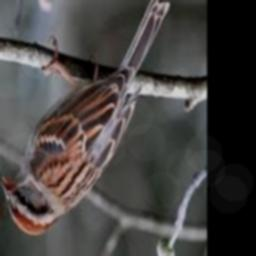Sparrow: (0, 0, 170, 236)
